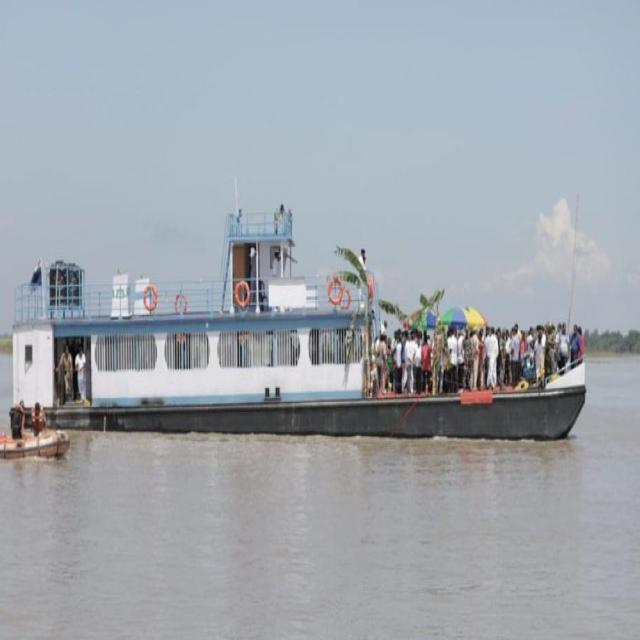houseboat: (4, 161, 594, 474)
